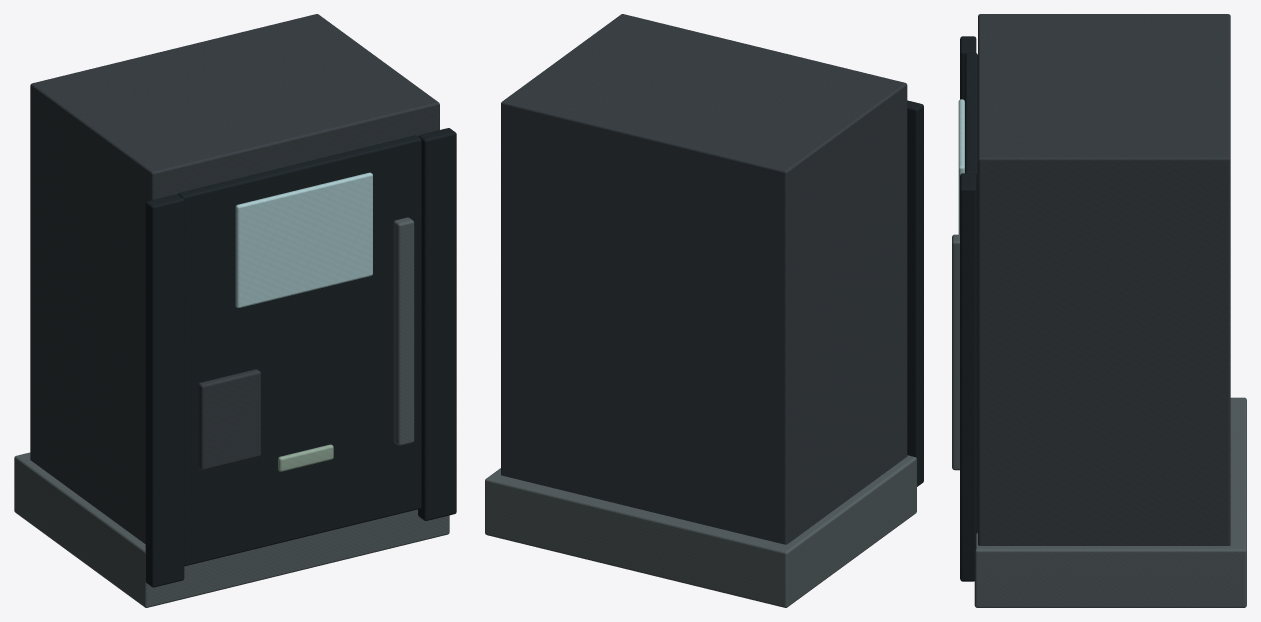
Rendered from SecureEquipmentPod.fbx.
The picture shows the model from 3 angles, left to right: view 1: azimuth 30°, elevation 25°; view 2: azimuth 150°, elevation 25°; view 3: azimuth 270°, elevation 25°; orthographic projection. The views are drawn at different scales.
Visible parts, largest first — view 1: SecureEquipmentPod_Mesh; view 2: SecureEquipmentPod_Mesh; view 3: SecureEquipmentPod_Mesh.
Part boxes in pixels (x1,y1,x2,y2): SecureEquipmentPod_Mesh: (14, 14, 456, 607); SecureEquipmentPod_Mesh: (485, 14, 923, 607); SecureEquipmentPod_Mesh: (952, 14, 1246, 607).
Size of the model in its own units: 112 by 152 by 91.
5 materials, 5 textured.
